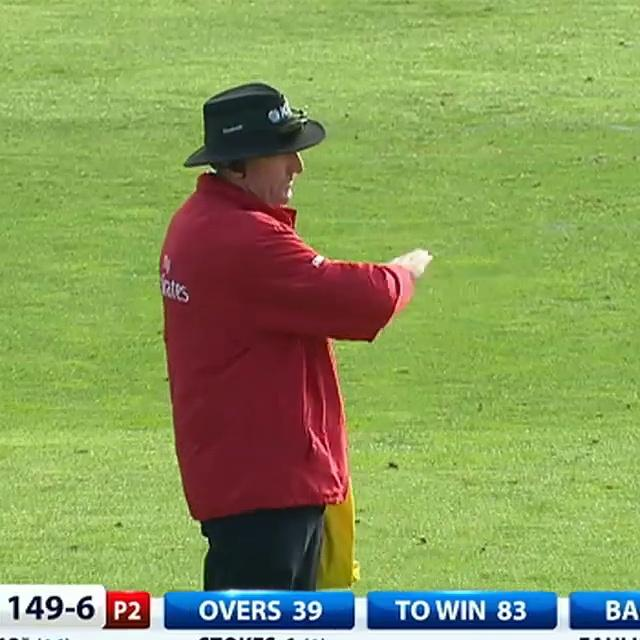umpire: (136, 52, 442, 596)
